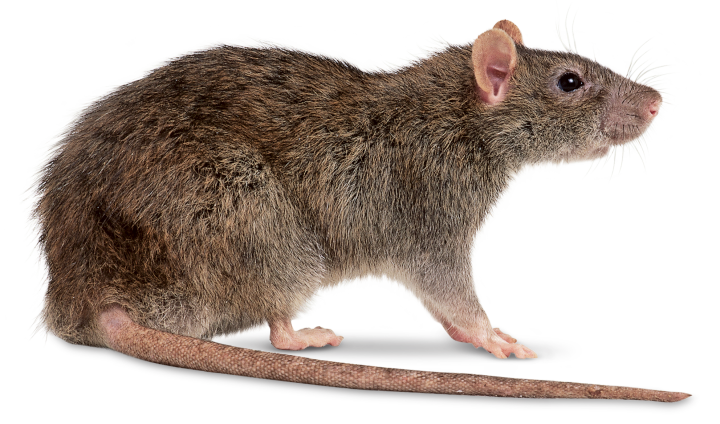rat: (22, 1, 708, 424)
